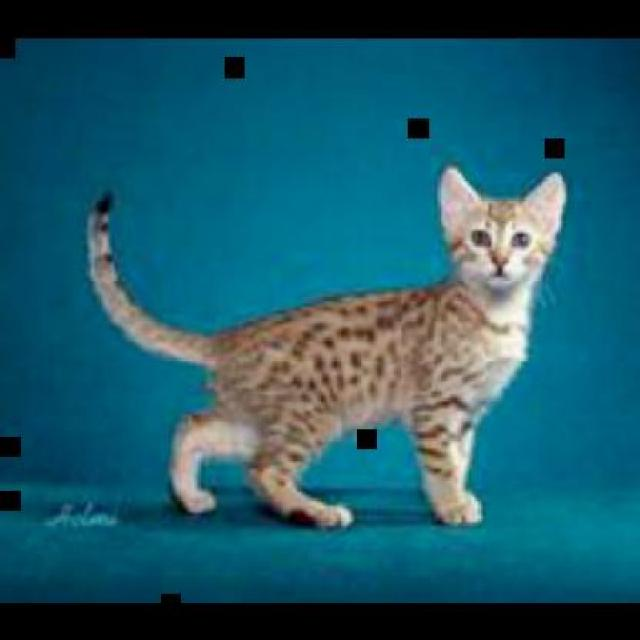unauthorized: (85, 163, 568, 529)
